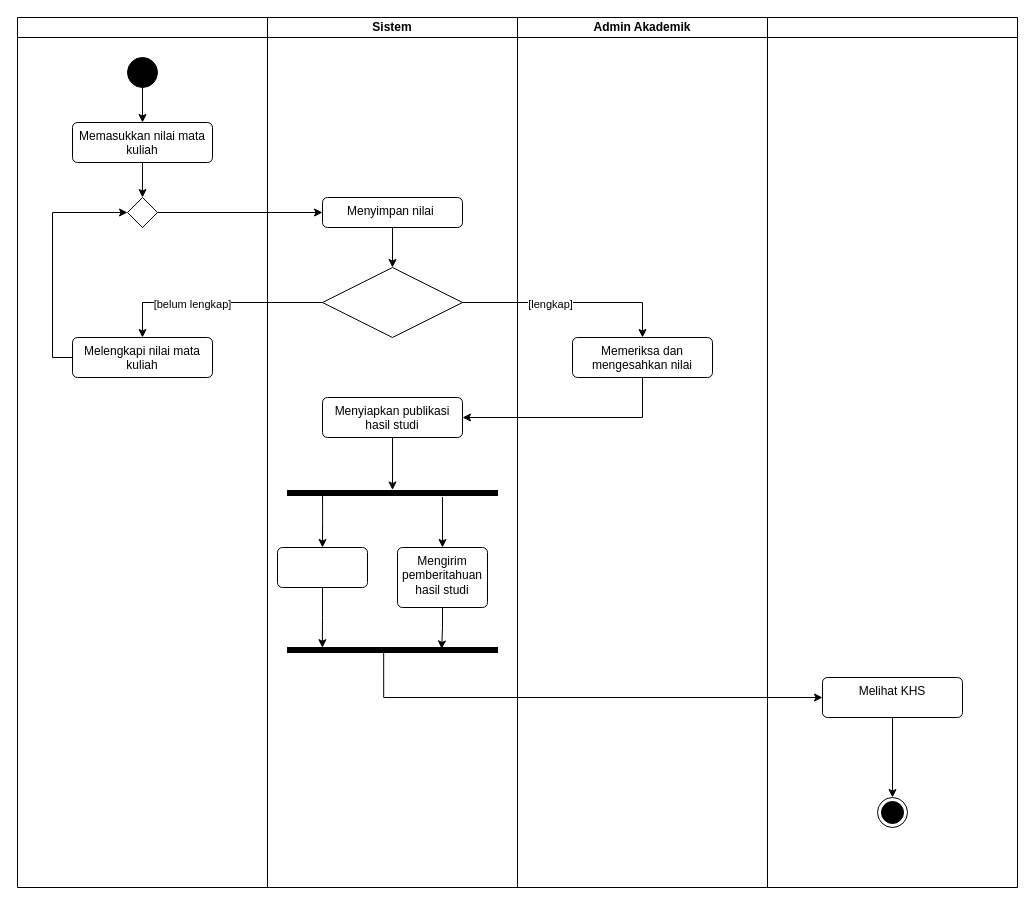
Some shapes in this 1035 by 905 pixel diagram are drawn without their labels. The box of each missing label's shape, as (x1, y1, x2, y2) in pixels:
Dosen: (16, 16, 268, 888)
Mahasiswa: (766, 16, 1018, 888)
Menerbitkan KHS: (276, 546, 368, 588)
Nilai sudah lengkap?: (322, 266, 462, 338)
